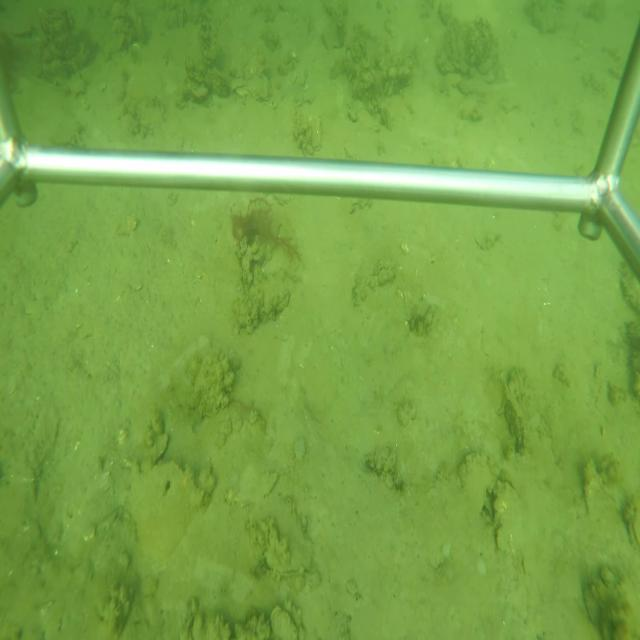Oyster-Closed: (256, 495, 318, 581), (502, 380, 528, 454), (310, 114, 324, 154)
Oyster-Indeterminate: (493, 477, 533, 554), (151, 431, 170, 466)
